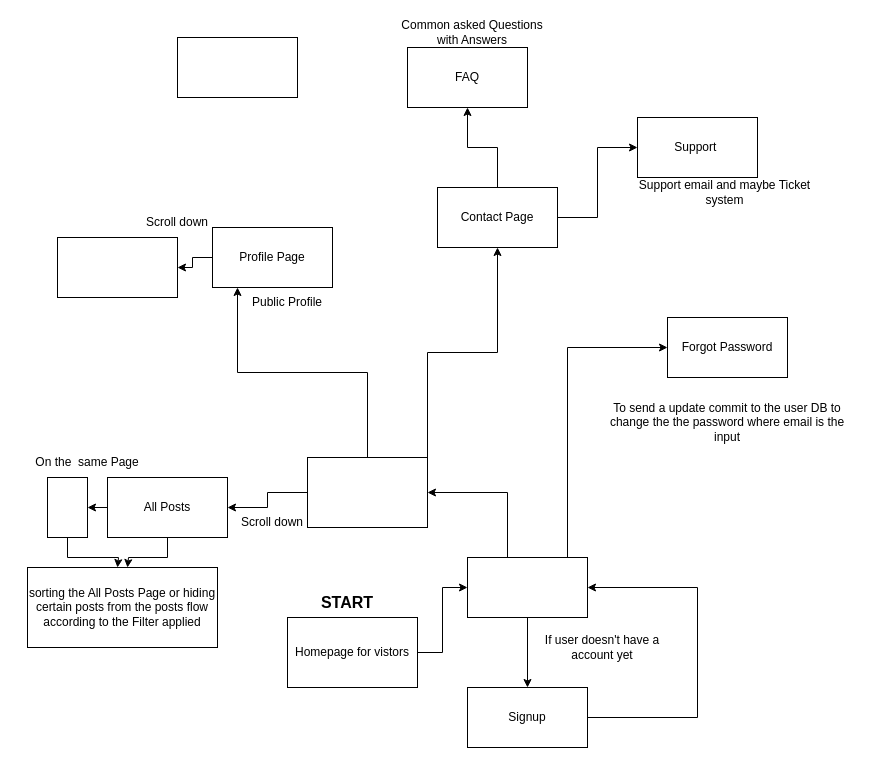
The diagram is 869 pixels wide and 765 high, and some of its shapes have lost their labels. The centre of each missing label's shape, as x and y in pixels:
"Filter" goes at pixel 67 507.
"Homepage for Users with all features" goes at pixel 367 492.
"Login" goes at pixel 527 587.
"User Posts" goes at pixel 117 267.
